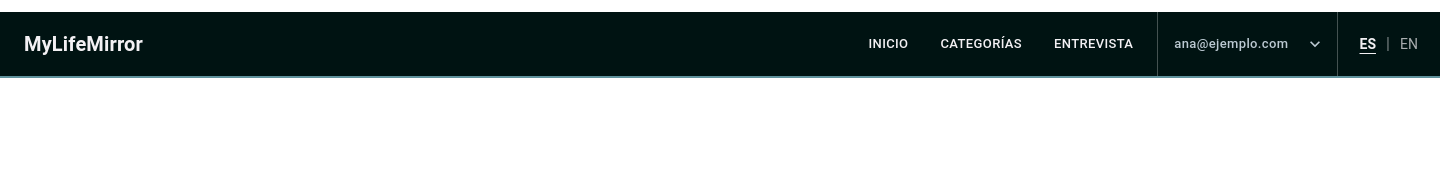
Test: Header › el selector de idioma es de texto (ES | EN), sin banderas, y cambia el idioma activo
Click the button with aria-label "English". click: (1409, 44)
box: [1394, 32, 1424, 56]
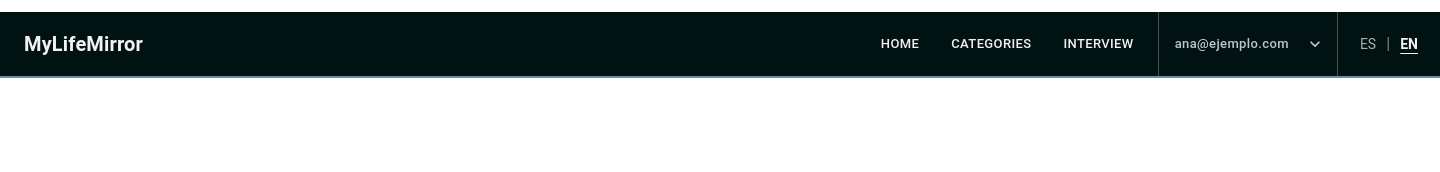
Expected: the link "Home" is shown, [881, 36, 919, 51]
